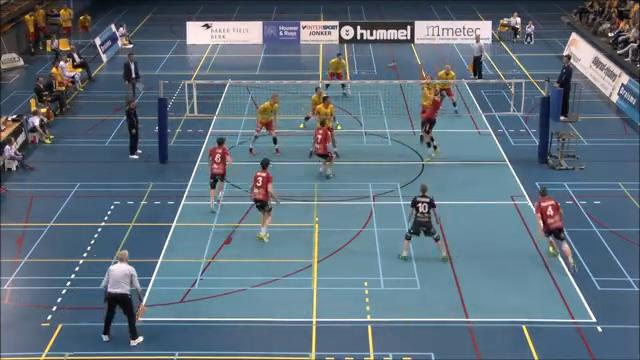Player: (399, 184, 448, 260), (535, 188, 576, 270), (251, 158, 278, 242), (249, 93, 279, 155), (208, 137, 231, 211), (315, 95, 338, 156), (309, 120, 333, 178), (437, 65, 457, 113), (300, 87, 323, 127), (420, 80, 436, 113), (328, 53, 346, 80)
Set: (418, 85, 446, 164)
